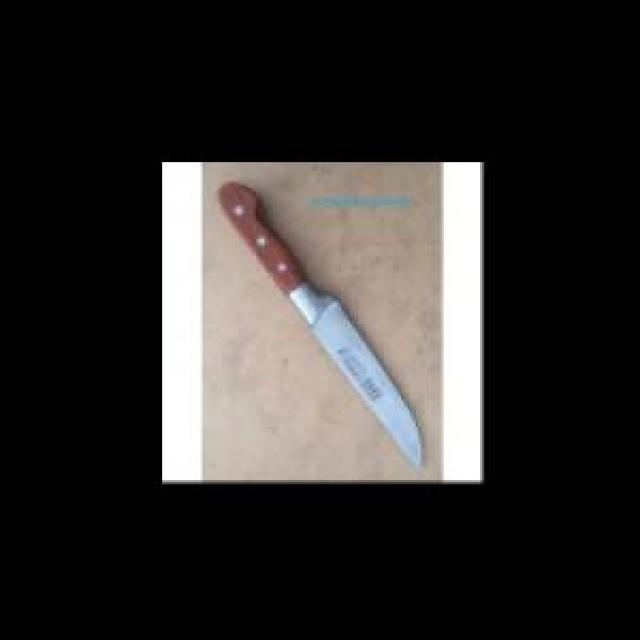knife: (218, 175, 431, 475)
